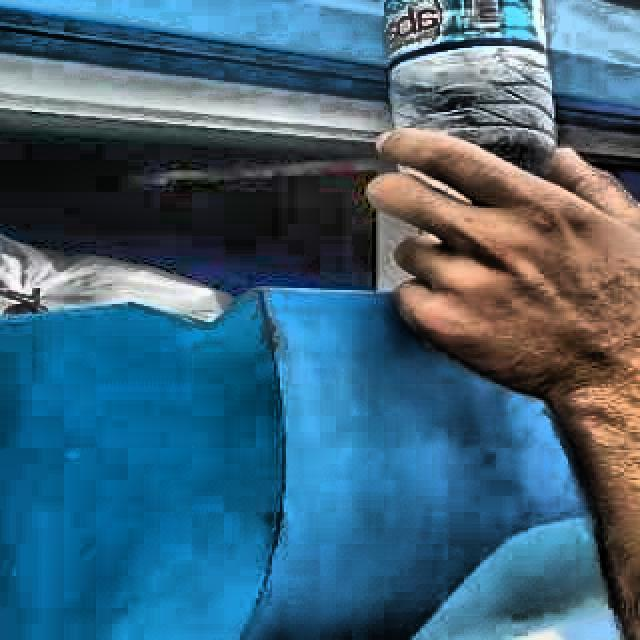plastic: (382, 0, 557, 168)
